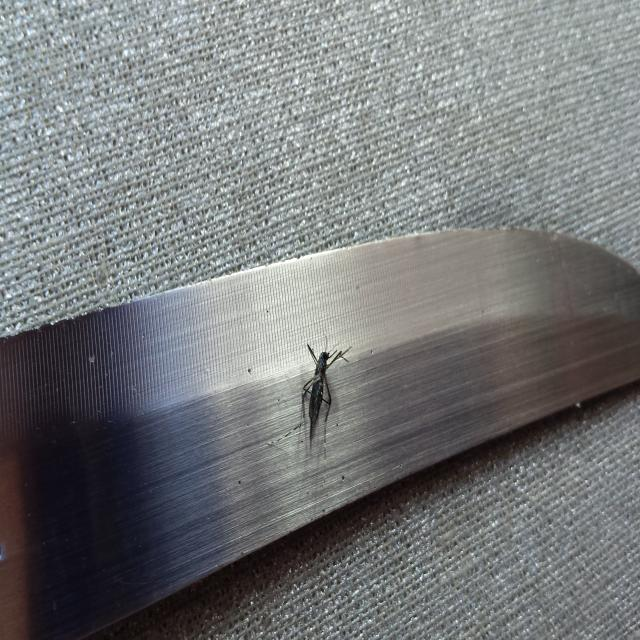albopictus: (285, 327, 353, 458)
